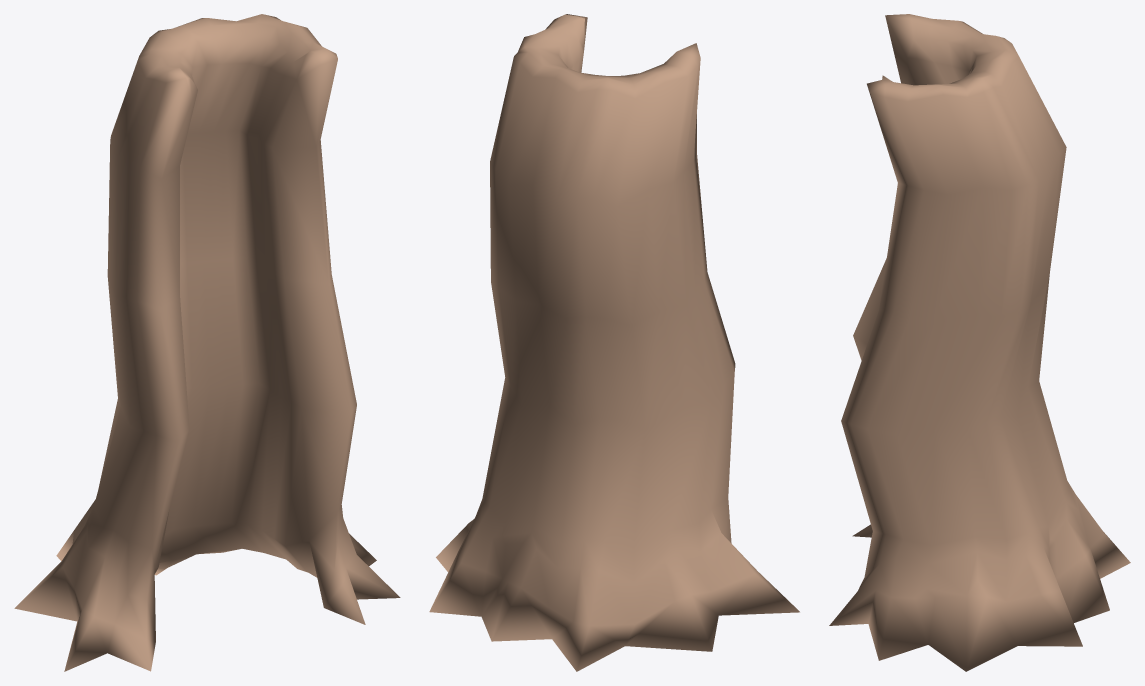
The model's file is RunThwoughTwee_02fbx.fbx.
3 renders of one model, left to right at view 1: azimuth 30°, elevation 25°; view 2: azimuth 150°, elevation 25°; view 3: azimuth 270°, elevation 25°, orthographic. The views are drawn at different scales.
Visible parts, largest first — view 1: Circle; view 2: Circle; view 3: Circle.
Part boxes in pixels (x1,y1,x2,y2): Circle: [14, 14, 400, 671]; Circle: [429, 14, 799, 671]; Circle: [829, 14, 1130, 671].
Bounding box in the file's own units: 362 × 573 × 282.
